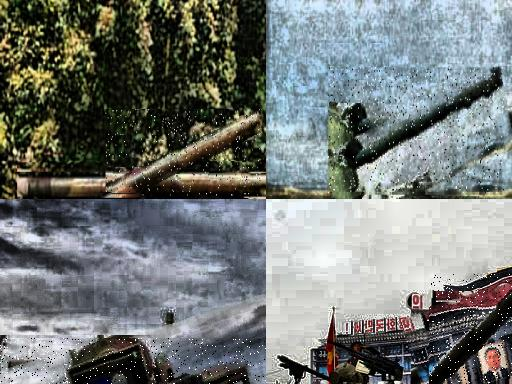tanks: (329, 69, 504, 194), (107, 110, 261, 196), (431, 299, 512, 384), (320, 349, 403, 384), (386, 182, 439, 200)
